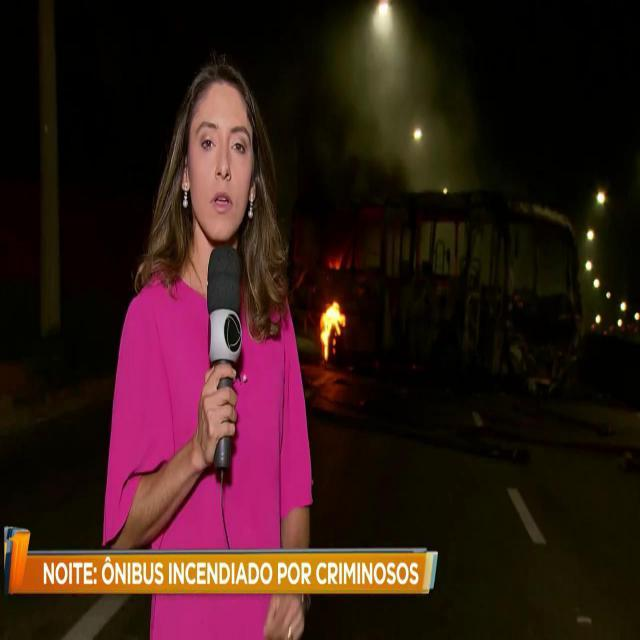Fire: (314, 293, 348, 361)
